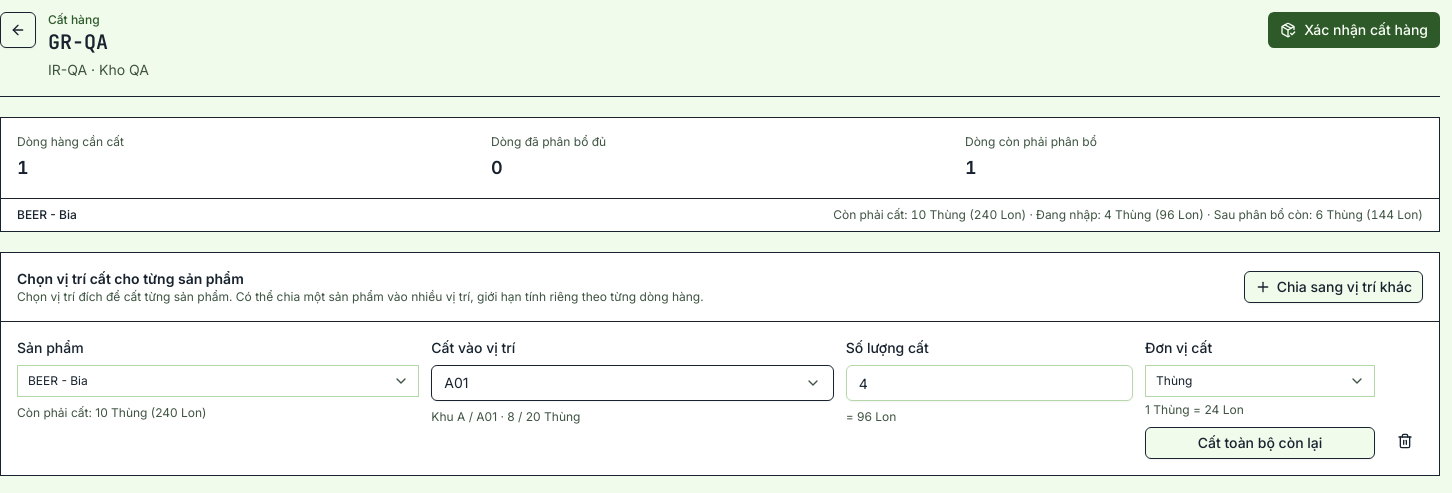
Test case: put-away operational-unit form › shows conversion, preserves physical amount when switching unit and submits explicit entered fields
The image size is (1452, 493).
Expected: the text "= 96 Lon" is shown, [846, 409, 896, 424]
Expected: the text "1 Thùng = 24 Lon" is shown, [1145, 402, 1244, 417]
Select "Lon" in the dropdown labelled "Đơn vị cất" at (1260,381), box [1145, 365, 1375, 397]
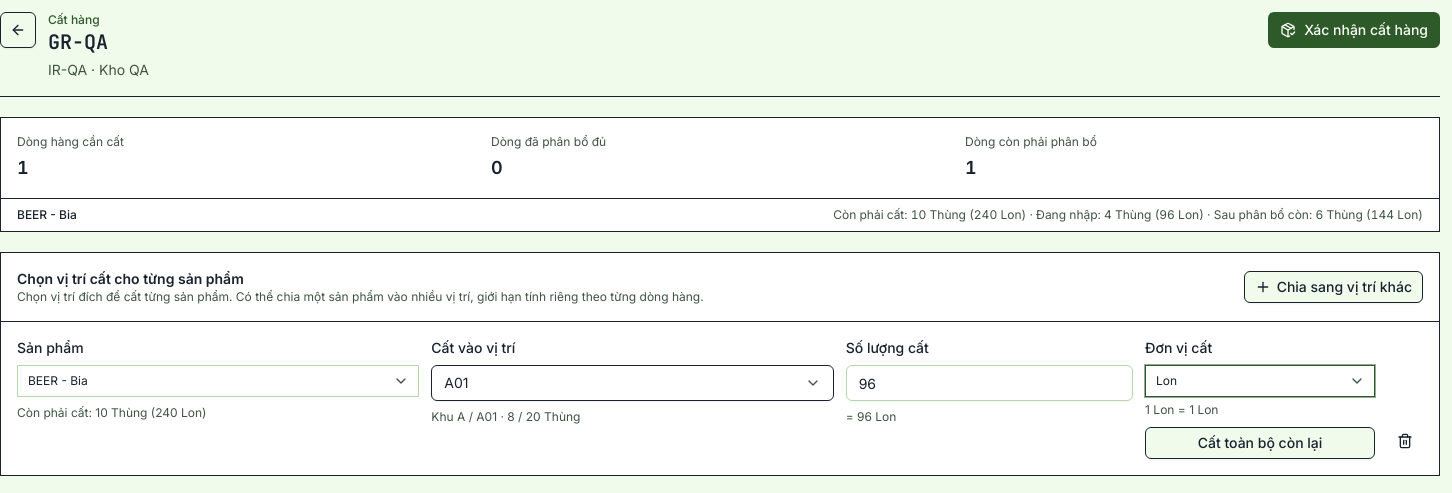
Result: the number field labelled "Số lượng cất" holds "96" at [846, 365, 1133, 401]
Select "Thùng" in the dropdown labelled "Đơn vị cất" at (1260,381), box [1145, 365, 1375, 397]
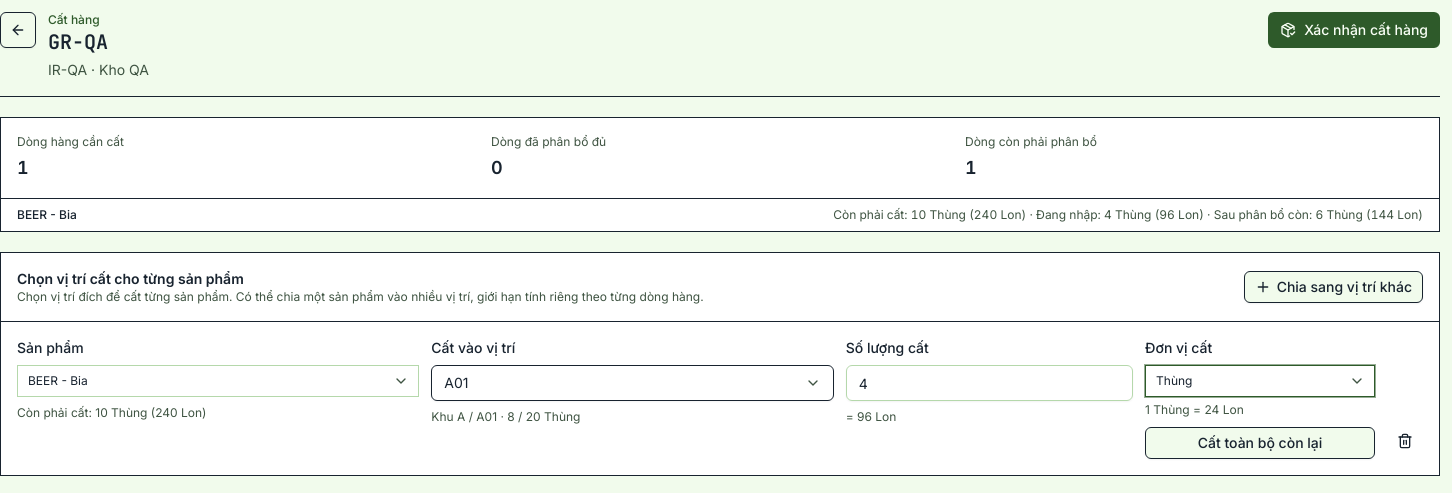
Result: the number field labelled "Số lượng cất" holds "4" at [846, 365, 1133, 401]
Click the button "Xác nhận cất hàng" at (1354,30), box [1268, 12, 1440, 48]
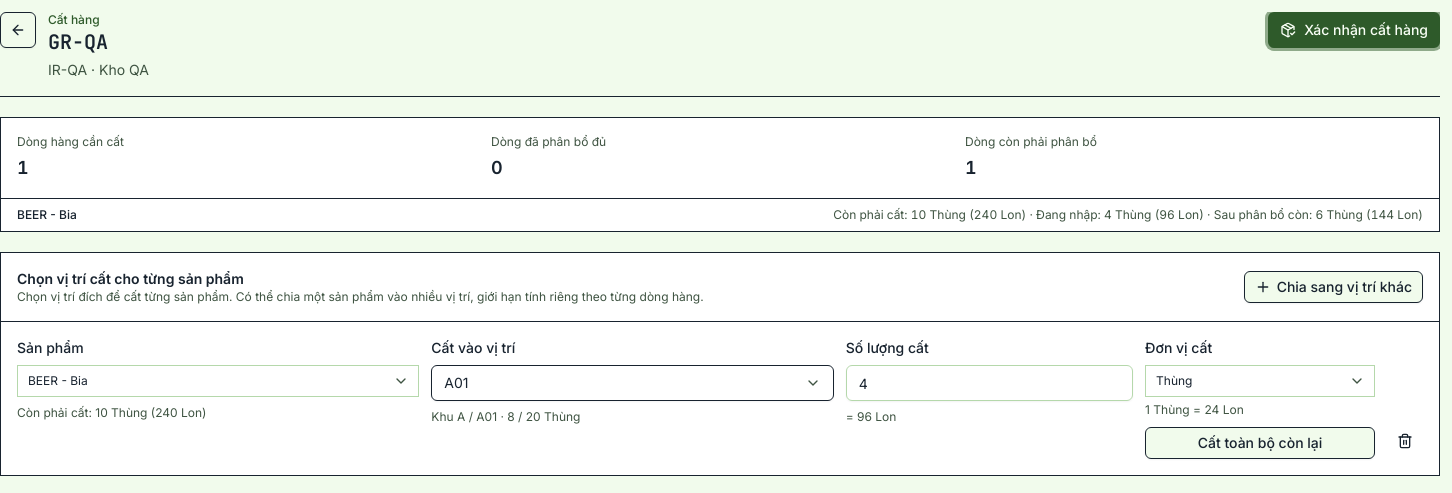
Click the button "Cất toàn bộ còn lại" at (1260,443), box [1145, 427, 1375, 459]
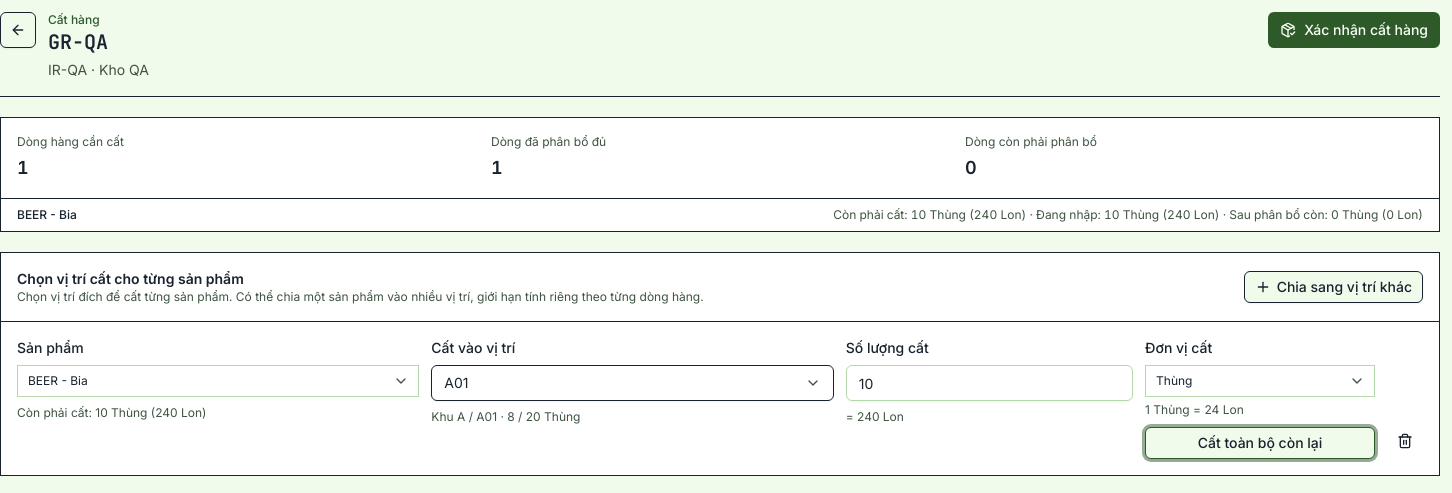
Result: the number field labelled "Số lượng cất" holds "10" at [846, 365, 1133, 401]
Result: the text "= 240 Lon" is shown at [846, 409, 904, 424]
